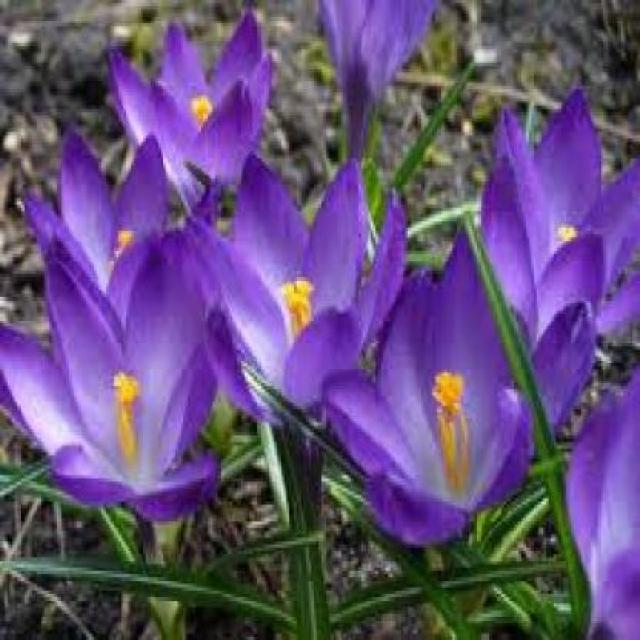saffron open: (324, 234, 532, 544), (1, 254, 219, 519), (110, 11, 271, 207), (481, 88, 605, 339), (566, 368, 639, 637), (317, 0, 434, 160)
